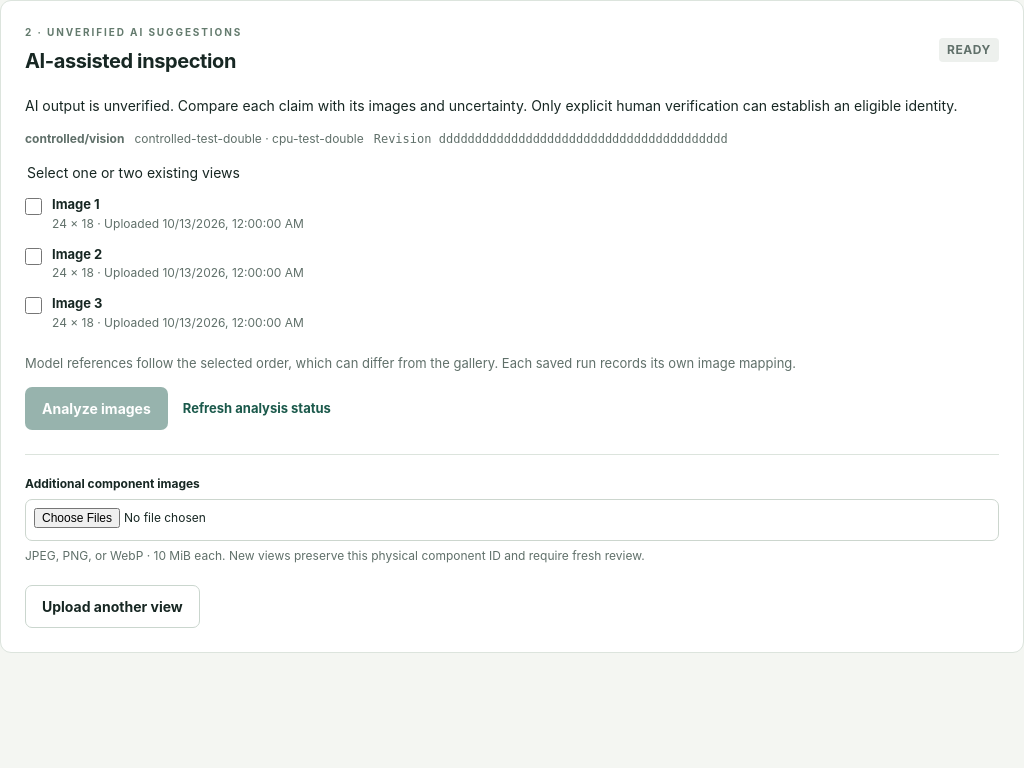
Test case: inspection requests and explicit human actions › submits one or two selected asset IDs with the current version and no authority overrides
This screenshot has width=1024, height=768.
Check: the button "Analyze images" is disabled, box [25,387,168,430]
What coordinates should you click on to do the following:
click the checkbox labelled "Image 1 24 × 18 · Uploaded 10/13/2026, 12:00:00 AM"
I would click on:
 (34, 206)
Its box is [25,198,42,215].
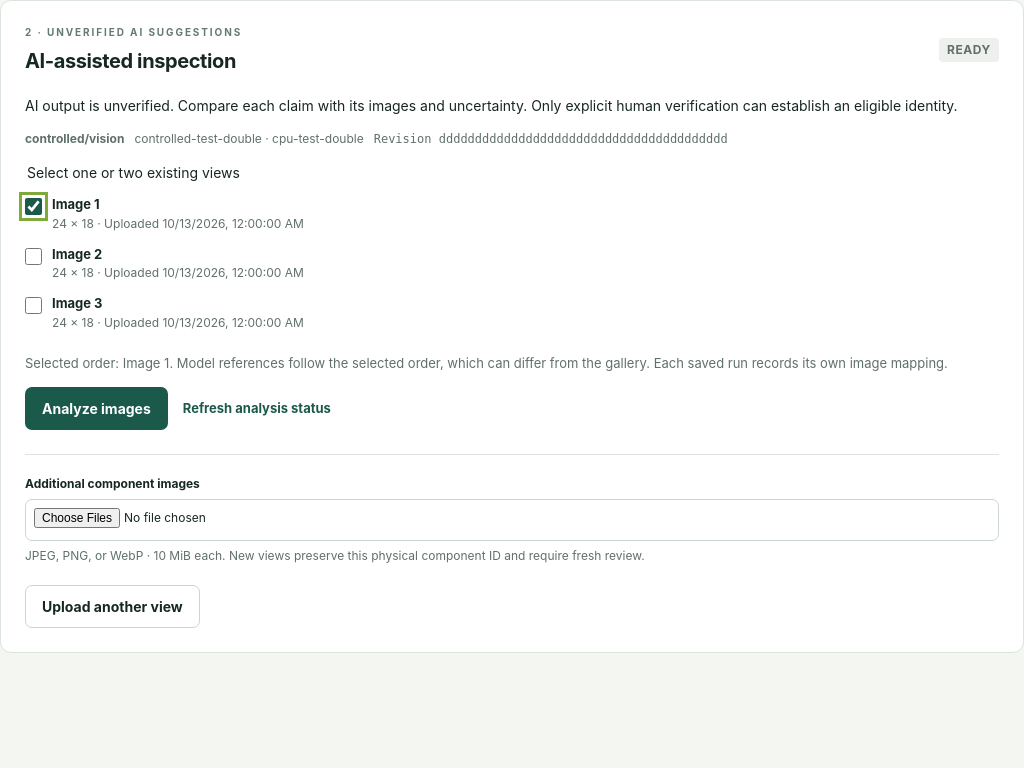
What coordinates should you click on to do the following:
click the checkbox labelled "Image 2 24 × 18 · Uploaded 10/13/2026, 12:00:00 AM"
I would click on:
 (34, 256)
Its box is [25,248,42,264].
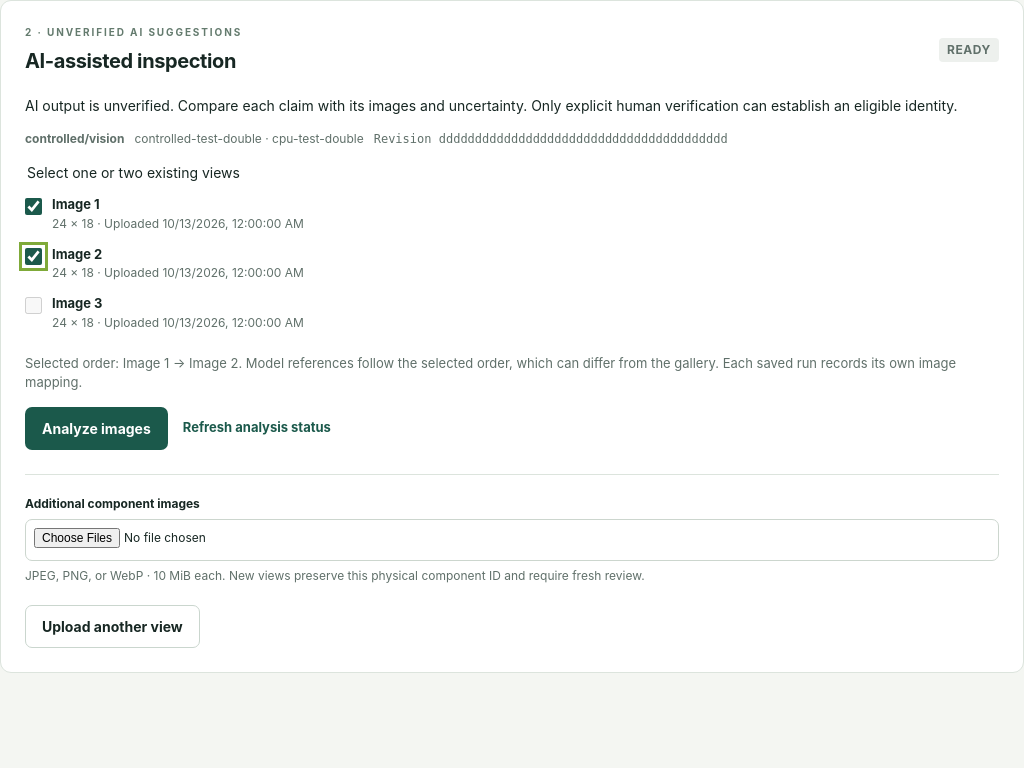
What coordinates should you click on to do the following:
click the button "Analyze images"
I would click on:
 (96, 428)
Its box is [25,406,168,450].
(page scrolled)
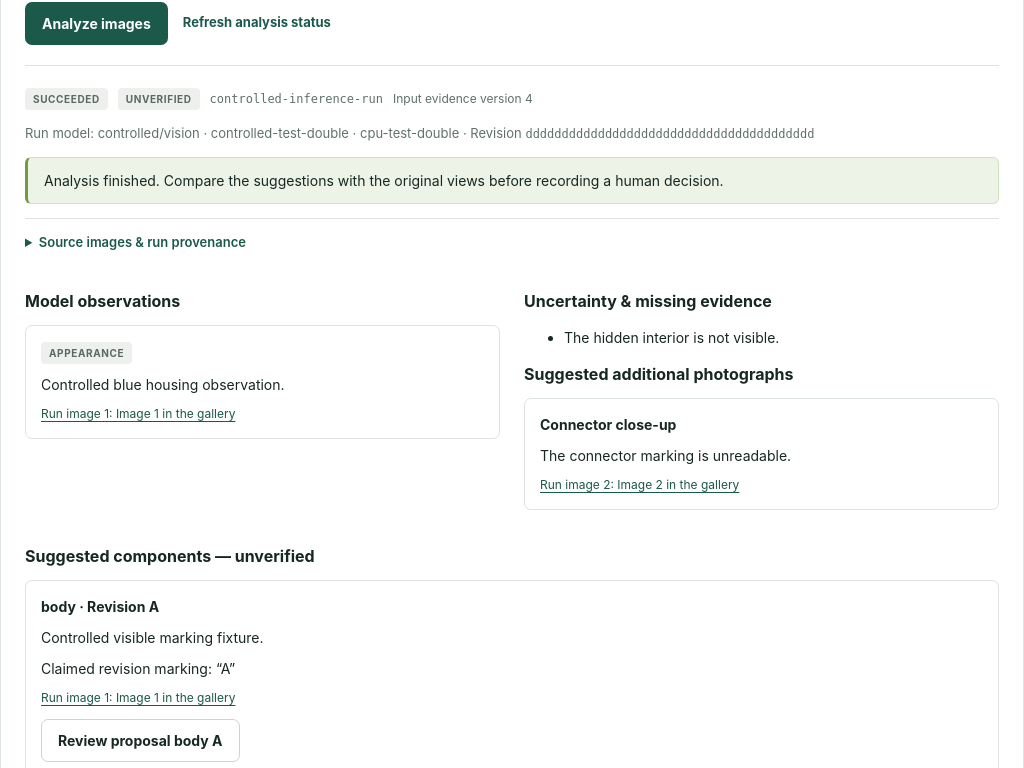
Check: the text "Controlled blue housing observation." is shown, box [41,376,285,392]
